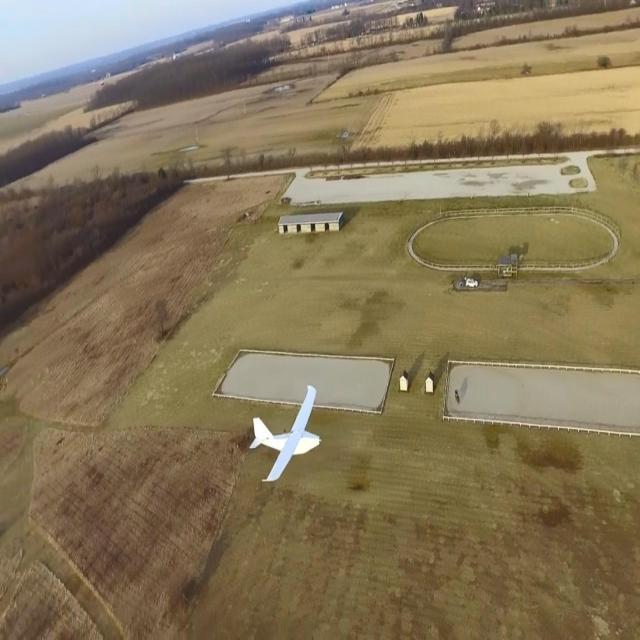UAV: (204, 376, 337, 530)
